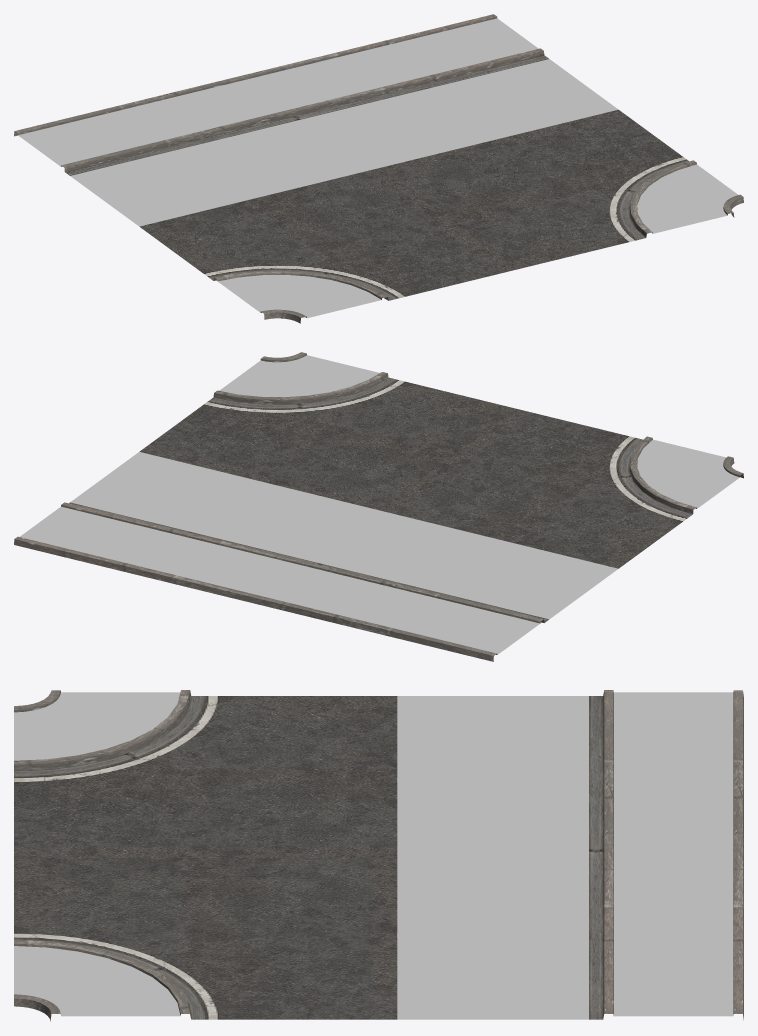
Rendered from Road4.fbx.
3 views of the same model, one above another, from view 1: azimuth 30°, elevation 25°; view 2: azimuth 150°, elevation 25°; view 3: azimuth 270°, elevation 25° (orthographic). The views are drawn at different scales.
Parts seen in each view (by area): view 1: malu, lu3, lu004, polySurface65, lu, lu2; view 2: malu, lu3, lu004, polySurface65, lu, lu2; view 3: malu, lu3, lu004, lu, polySurface65, lu2.
Boxes of the visible parts, <box> form: malu: <box>140,109,687,298</box>; lu3: <box>70,59,617,226</box>; lu004: <box>18,18,538,166</box>; polySurface65: <box>14,14,743,323</box>; lu: <box>218,164,737,318</box>; lu2: <box>65,55,688,300</box>; malu: <box>139,379,687,568</box>; lu3: <box>70,452,618,619</box>; lu004: <box>20,506,539,654</box>; polySurface65: <box>14,352,743,661</box>; lu: <box>219,355,739,508</box>; lu2: <box>69,377,692,622</box>; malu: <box>14,696,397,1019</box>; lu3: <box>397,696,588,1019</box>; lu004: <box>614,692,733,1016</box>; lu: <box>14,692,180,1016</box>; polySurface65: <box>14,690,743,1021</box>; lu2: <box>14,696,603,1019</box>.
Bounding box in the file's own units: 8 × 0.0892 × 7.62.
